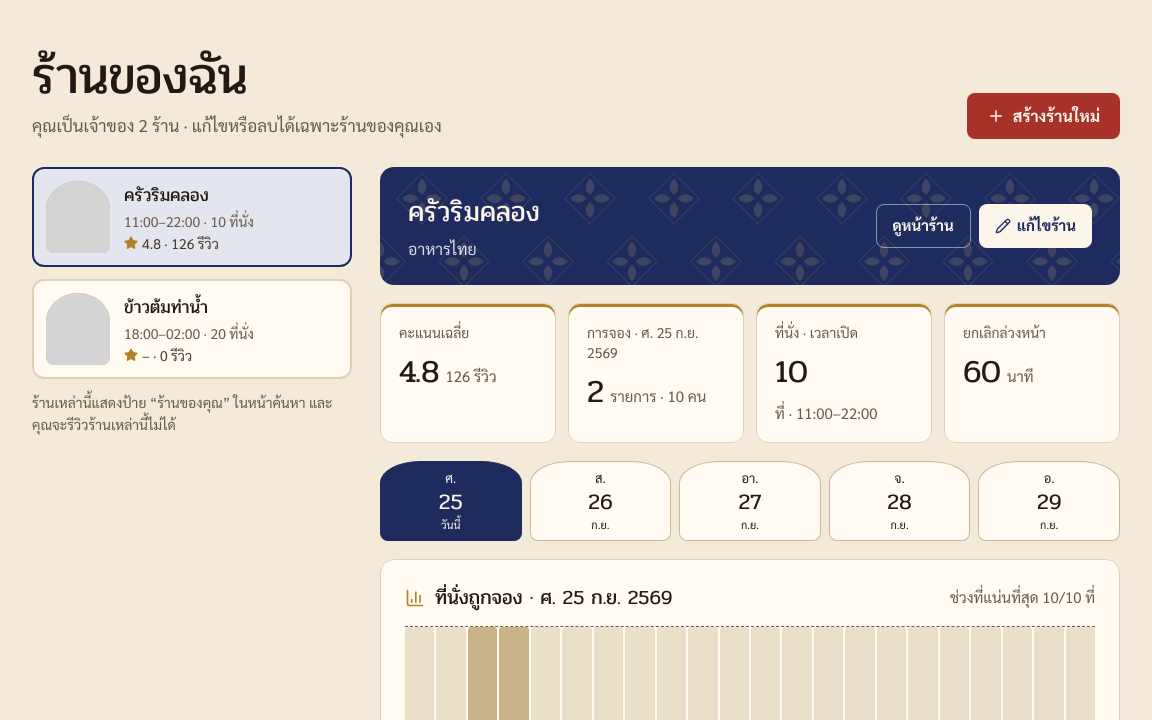
OwnerDashboard › เลือกร้านอื่น → จำใน URL · ร้านข้ามเที่ยงคืนมีคำอธิบาย
This screenshot has width=1152, height=720.
Click the button "ข้าวต้มท่าน้ำ 18:00–02:00 · 20 ที่นั่ง – · 0 รีวิว".
click(192, 328)  # box [32,278,352,378]
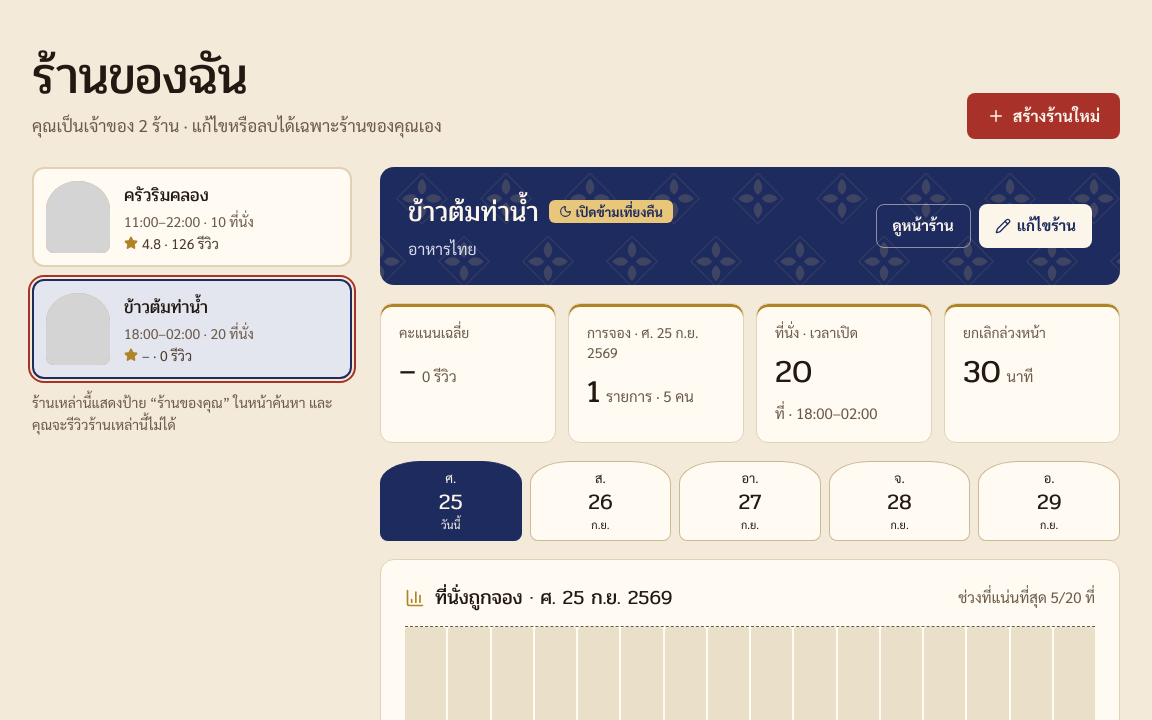
Check: the text "เปิดข้ามเที่ยงคืน" is shown, box [548,200,673,223]
Check: the text "ช่วงที่แน่นที่สุด 5/20 ที่" is shown, box [958,586,1095,609]
